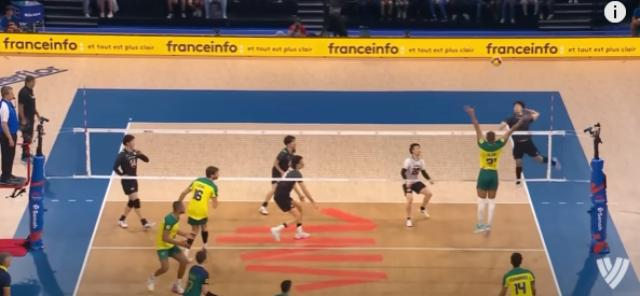Levantador: (262, 132, 302, 184)
Libero: (391, 134, 437, 224), (177, 245, 239, 296)
bola: (487, 48, 508, 76)
